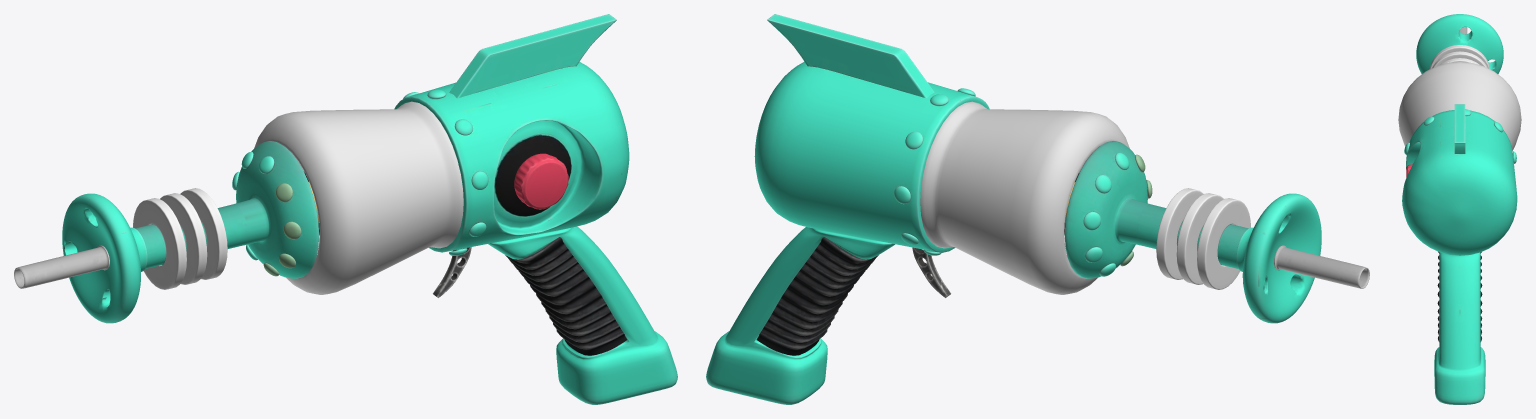
File: LaserGun.fbx
3 views of the same model, side by side, from view 1: azimuth 30°, elevation 25°; view 2: azimuth 150°, elevation 25°; view 3: azimuth 270°, elevation 25° (orthographic). The views are drawn at different scales.
Parts seen in each view (by area): view 1: Gun, Vidrio, Mango, Dial, Gatillo; view 2: Gun, Vidrio, Mango, Gatillo; view 3: Gun, Vidrio, Mango.
Part boxes in pixels (x1,y1,x2,y2): Gun: [14, 14, 677, 404]; Vidrio: [254, 101, 463, 294]; Mango: [505, 237, 627, 355]; Dial: [514, 153, 568, 209]; Gatillo: [433, 247, 471, 297]; Gun: [706, 14, 1369, 404]; Vidrio: [920, 101, 1129, 294]; Mango: [756, 237, 878, 355]; Gatillo: [912, 247, 950, 297]; Gun: [1402, 14, 1517, 404]; Vidrio: [1398, 62, 1521, 150]; Mango: [1437, 251, 1482, 341].
Bounding box in the file's own units: 40 × 21.77 × 9.91.
